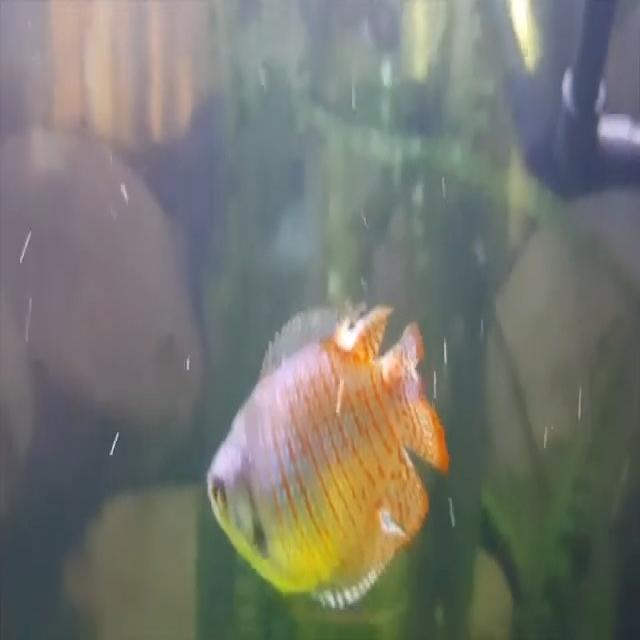fish: (203, 298, 451, 608)
